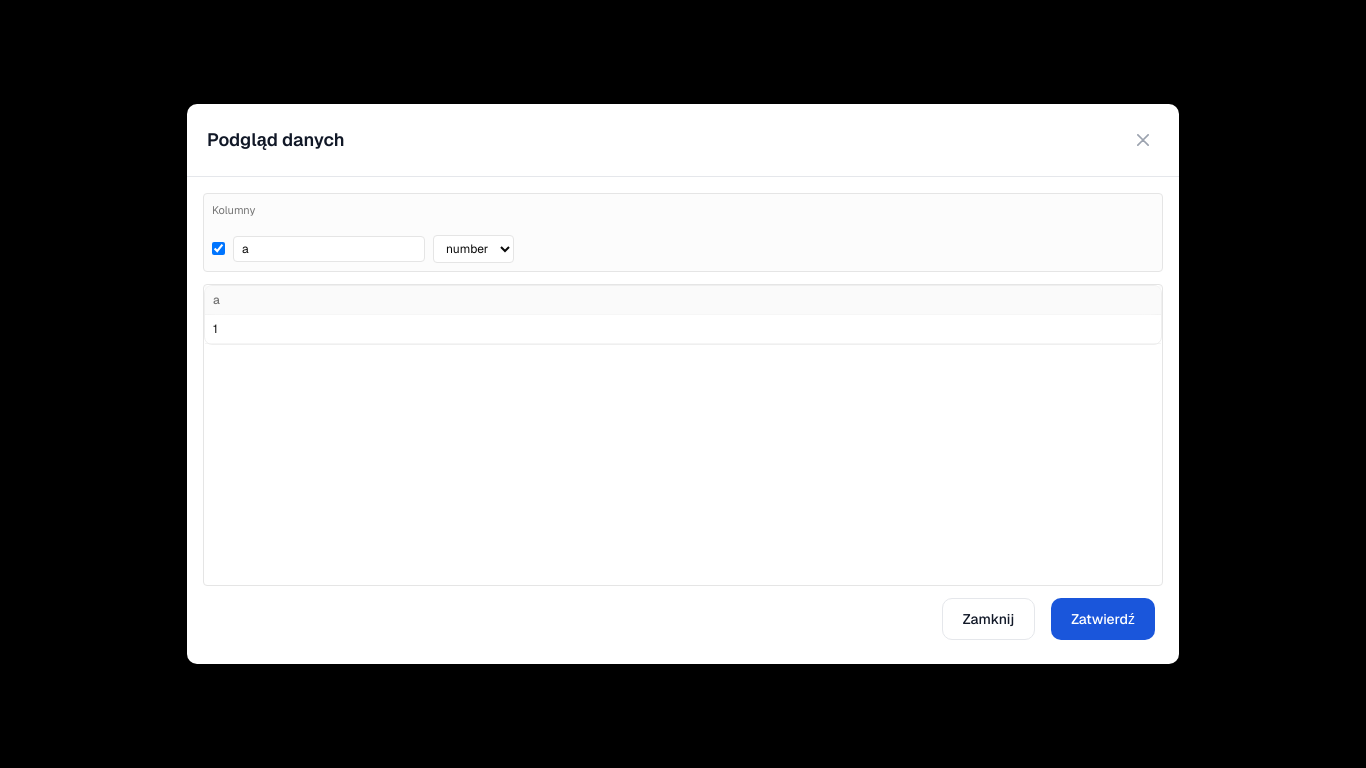
Test: ImportPreviewModal › informuje gdy wszystkie kolumny są ukryte
The width and height of the screenshot is (1366, 768).
Step 1. Click the checkbox → (218, 249), box [212,242,225,255]
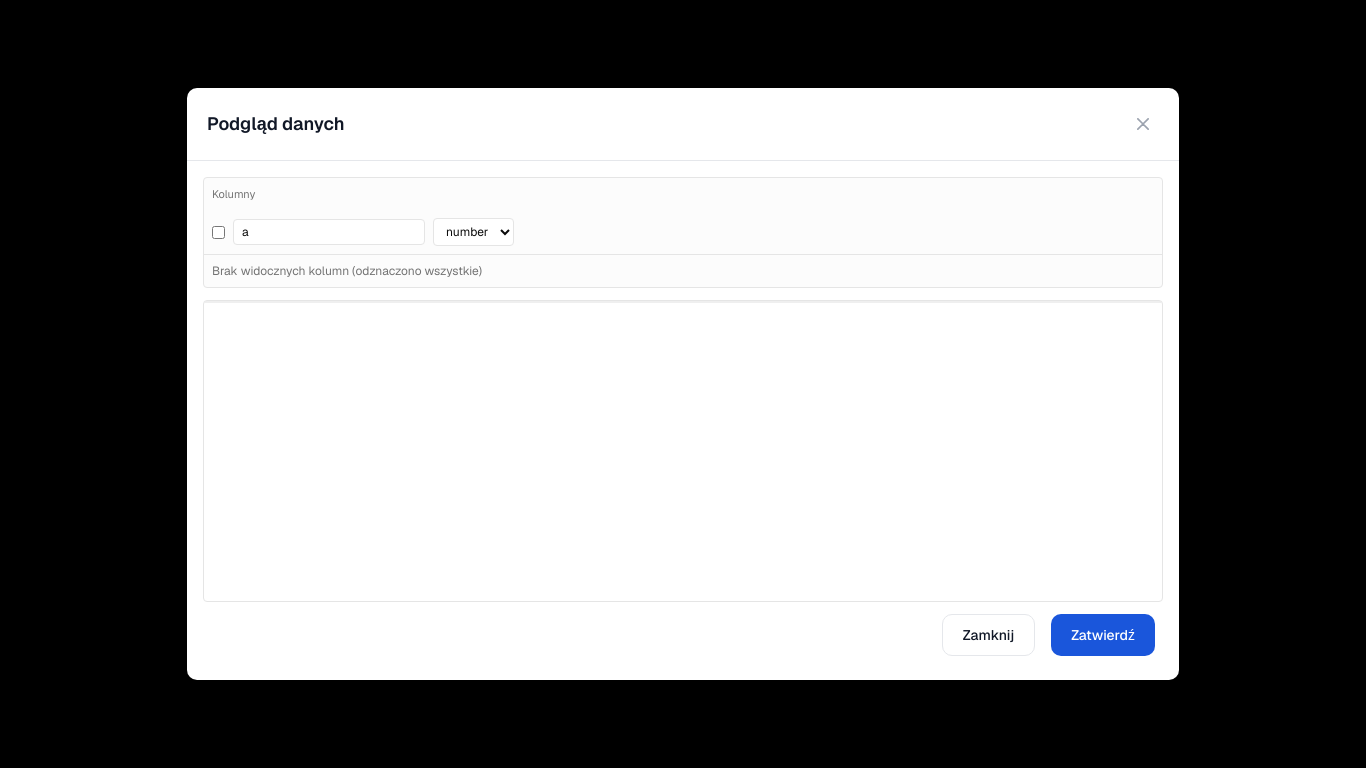
Now the text "Brak widocznych kolumn (odznaczono wszystkie)" is shown, box [212,263,482,279]
